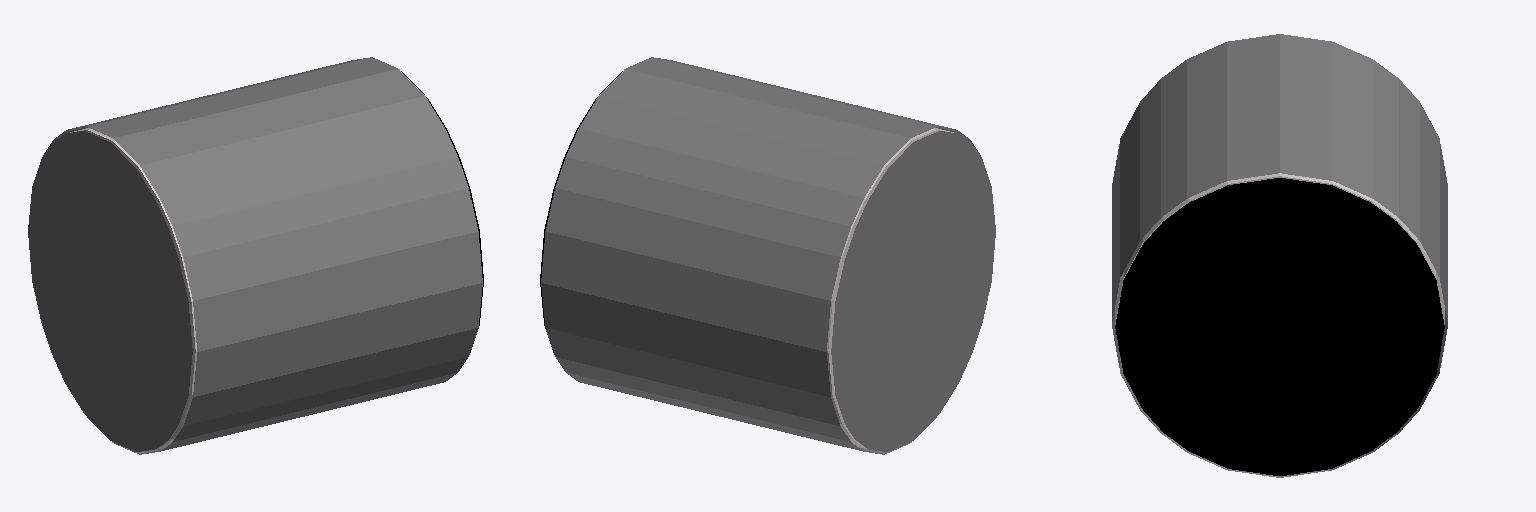
Rendered from piston.obj.
3 views of the same model, side by side, from view 1: azimuth 30°, elevation 25°; view 2: azimuth 150°, elevation 25°; view 3: azimuth 270°, elevation 25° (orthographic).
Parts seen in each view (by area): view 1: Piston3, Piston6, Piston2, Piston5, Piston1; view 2: Piston4, Piston6, Piston2, Piston5, Piston1; view 3: Piston7, Piston2, Piston3, Piston4, Piston1.
Part boxes in pixels (left/top/right/bottom): Piston3: left=173, top=157, right=482, bottom=441; Piston6: left=28, top=131, right=192, bottom=451; Piston2: left=55, top=57, right=457, bottom=225; Piston5: left=112, top=373, right=456, bottom=454; Piston1: left=70, top=128, right=196, bottom=448; Piston4: left=541, top=157, right=850, bottom=441; Piston6: left=831, top=131, right=995, bottom=451; Piston2: left=566, top=57, right=968, bottom=225; Piston5: left=567, top=373, right=911, bottom=454; Piston1: left=827, top=128, right=953, bottom=448; Piston7: left=1115, top=178, right=1444, bottom=475; Piston2: left=1161, top=34, right=1398, bottom=217; Piston3: left=1112, top=79, right=1160, bottom=432; Piston4: left=1399, top=79, right=1447, bottom=432; Piston1: left=1115, top=173, right=1444, bottom=324.
Size of the model in its own units: 2.04 by 2.04 by 2.04.